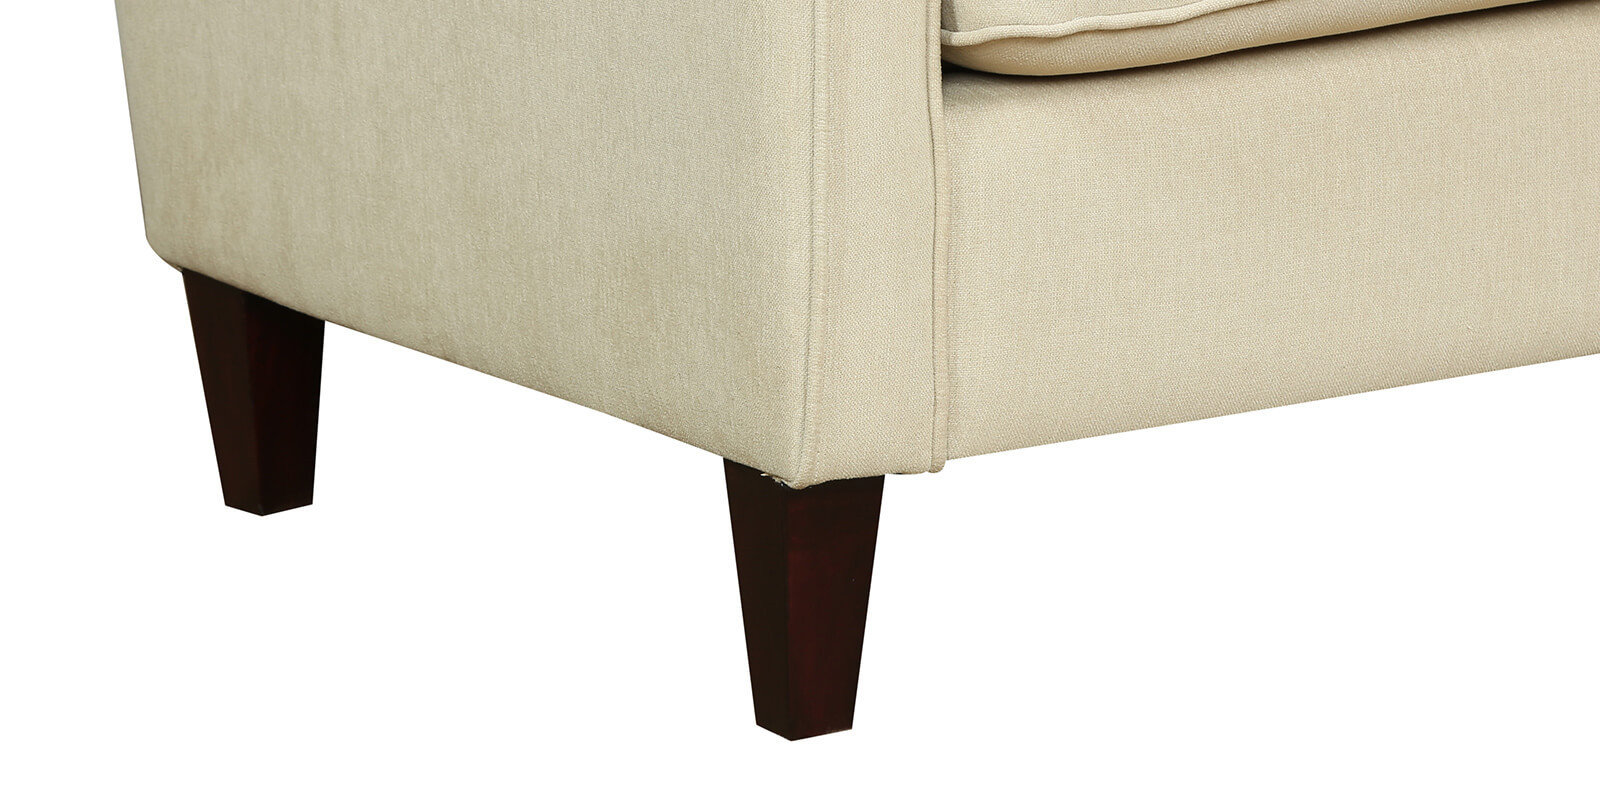Oscar Three Seater Sofa in Beige Colour by CasaCraft: (116, 1, 1600, 741)
